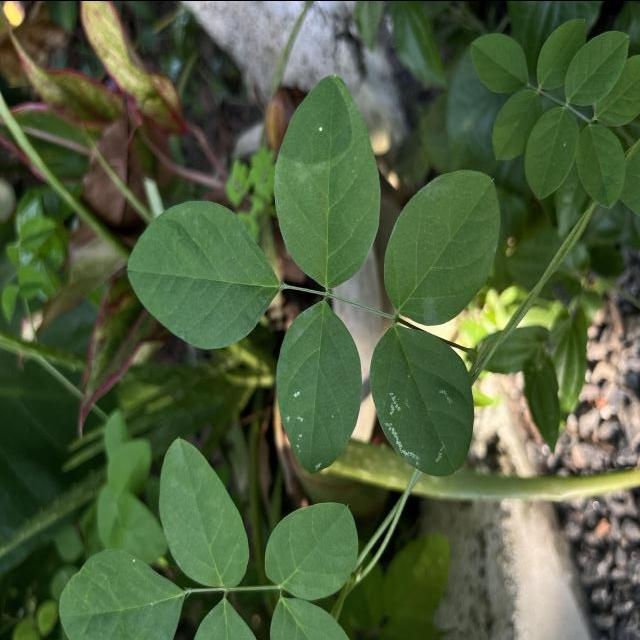Clitoria ternatea: (272, 74, 382, 290), (127, 198, 280, 351), (383, 166, 502, 326), (368, 324, 475, 478), (275, 299, 363, 474)
